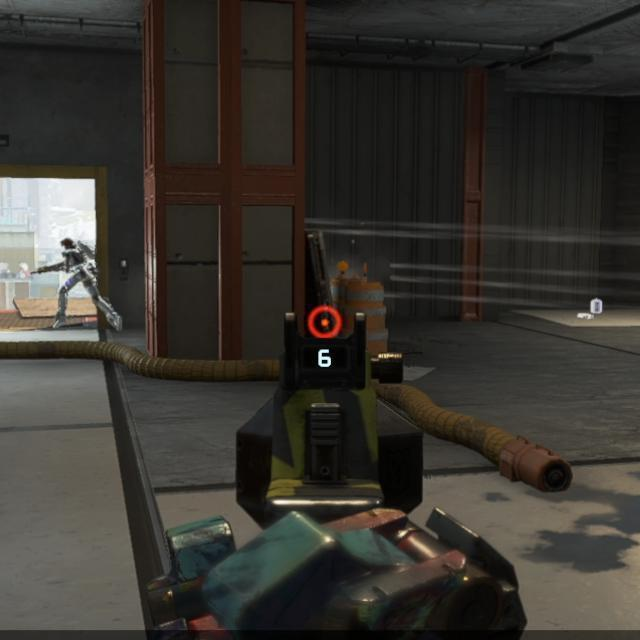avatar: (50, 234, 100, 337)
